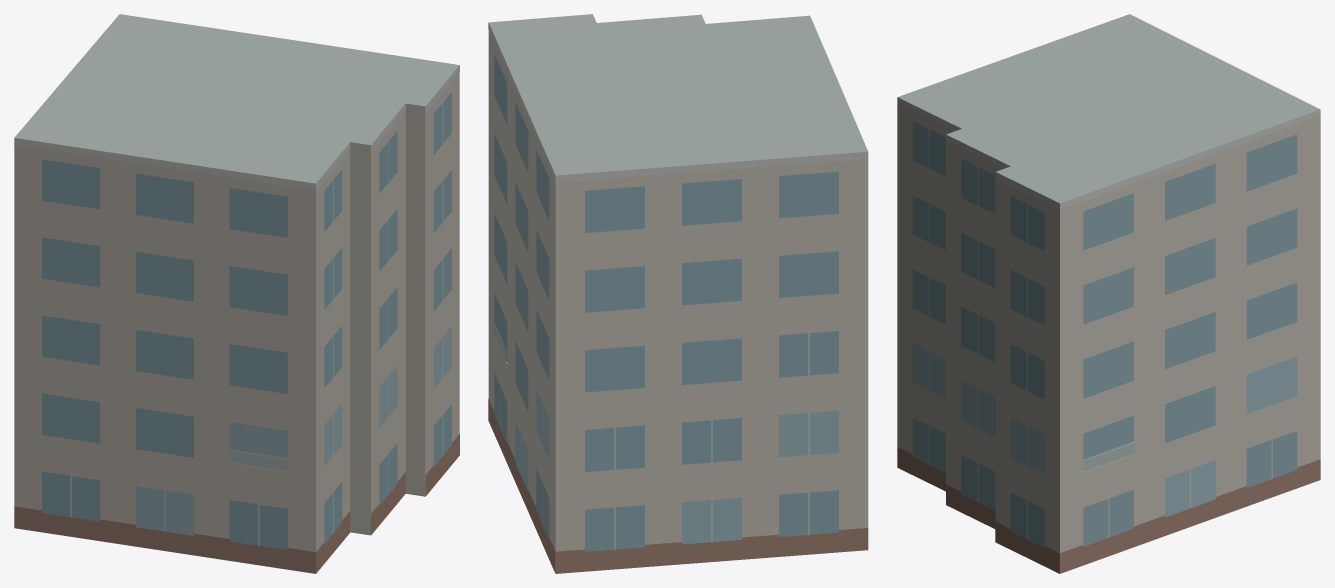
Rendered from survey-upis-32629869.glb.
The picture shows the model from 3 angles, left to right: view 1: azimuth 30°, elevation 25°; view 2: azimuth 150°, elevation 25°; view 3: azimuth 270°, elevation 25°; orthographic projection. The views are drawn at different scales.
Parts seen in each view (by area): view 1: survey-upis-32629869.tmp; view 2: survey-upis-32629869.tmp; view 3: survey-upis-32629869.tmp.
Part boxes in pixels (x1,y1,x2,y2): survey-upis-32629869.tmp: (14,14,459,573); survey-upis-32629869.tmp: (488,14,868,573); survey-upis-32629869.tmp: (897,14,1320,573).
Bounding box in the file's own units: 15.35 × 14 × 14.5.
